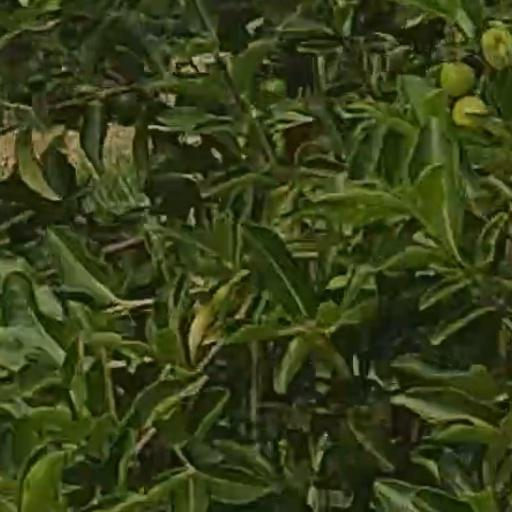acerola_verde: (443, 62, 477, 95), (454, 97, 486, 128)
